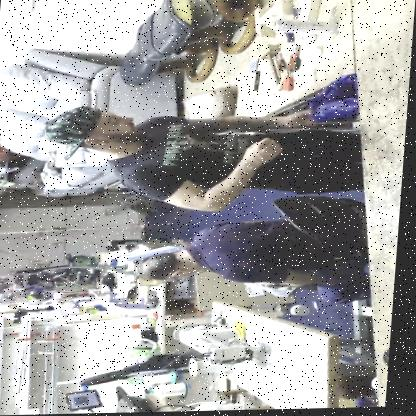streamer: (38, 100, 379, 215), (138, 220, 381, 310)
